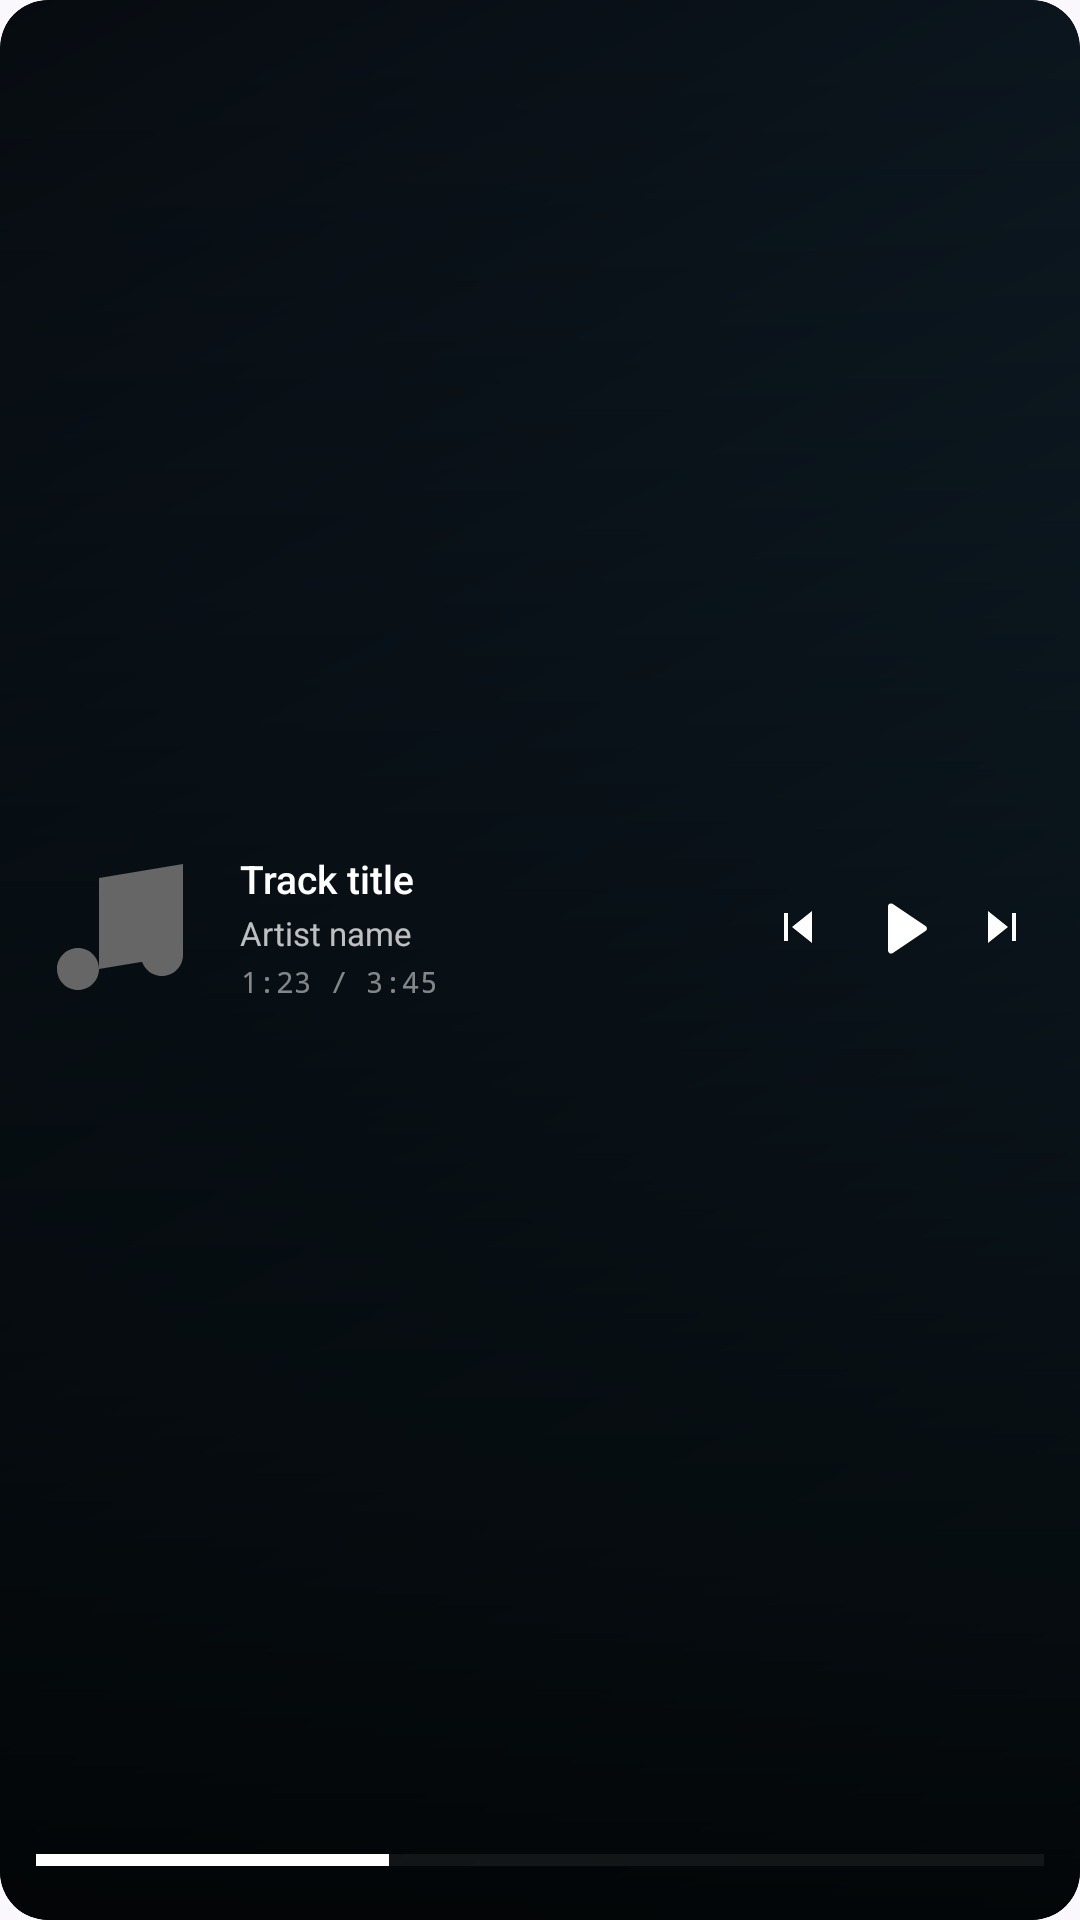

Screen size 1080px×1920px. Icon name, then its center in pixels as (x,y):
widget music: (120,927)
widget play: (907,928)
widget skip next: (1002,927)
widget skip prev: (798,927)
